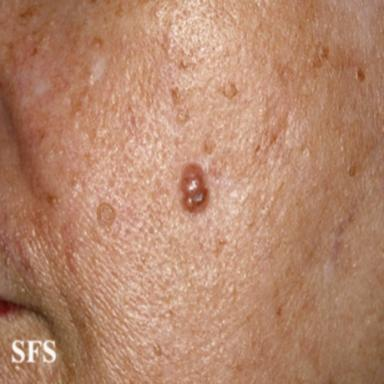basal-cell-carcinoma: (179, 161, 209, 213)
